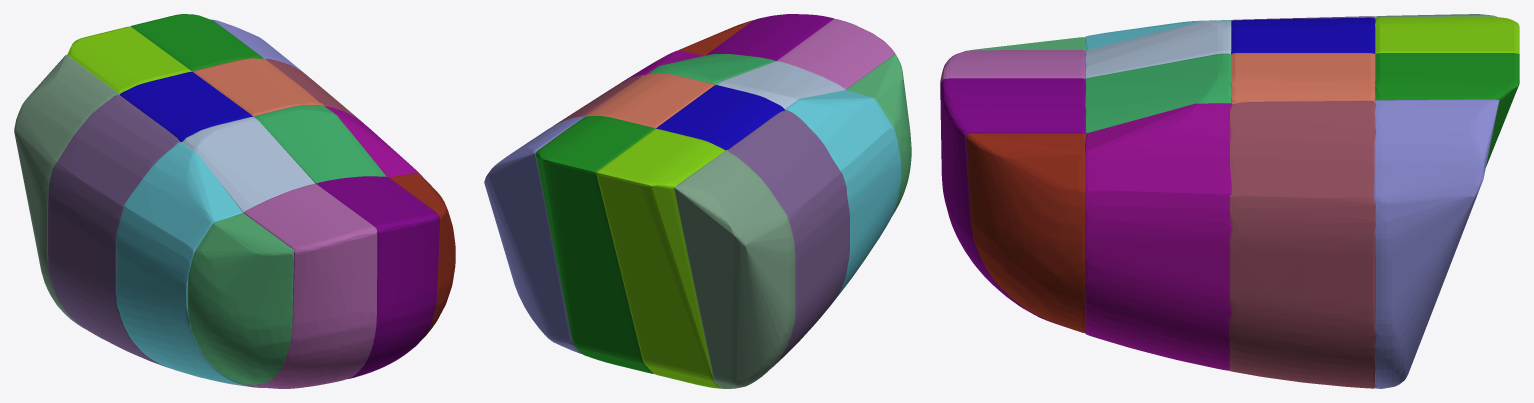
The model's file is th_distal_pst_split.obj.
3 renders of one model, left to right at view 1: azimuth 30°, elevation 25°; view 2: azimuth 150°, elevation 25°; view 3: azimuth 270°, elevation 25°, orthographic. The views are drawn at different scales.
Parts seen in each view (by area): view 1: geometry_1, geometry_7, geometry_2, geometry_3, geometry_11, geometry_0, geometry_6, geometry_10, geometry_5, geometry_4, geometry_8, geometry_9 (+4 smaller); view 2: geometry_0, geometry_4, geometry_8, geometry_1, geometry_2, geometry_12, geometry_5, geometry_7, geometry_9, geometry_11, geometry_3, geometry_6 (+4 smaller); view 3: geometry_13, geometry_14, geometry_12, geometry_15, geometry_11, geometry_10, geometry_8, geometry_9, geometry_4, geometry_5, geometry_6, geometry_7 (+2 smaller).
Part boxes in pixels (x1,y1,x2,y2): geometry_1: (48,95,179,367); geometry_7: (244,184,377,388); geometry_2: (116,142,244,384); geometry_3: (187,212,293,384); geometry_11: (315,176,439,379); geometry_0: (14,55,119,328); geometry_6: (182,117,315,387); geometry_10: (254,105,386,183); geometry_5: (120,72,252,141); geometry_4: (67,26,191,93); geometry_8: (130,14,263,71); geometry_9: (192,58,324,116); geometry_0: (674,150,795,388); geometry_4: (596,129,724,388); geometry_8: (535,116,655,373); geometry_1: (728,110,849,368); geometry_2: (785,90,900,300); geometry_12: (484,115,586,353); geometry_5: (656,85,784,150); geometry_7: (777,19,895,89); geometry_9: (587,73,715,128); geometry_11: (707,14,834,60); geometry_3: (845,54,911,215); geometry_6: (716,61,845,108); geometry_13: (1229,101,1376,388); geometry_14: (1085,103,1232,370); geometry_12: (1373,99,1499,388); geometry_15: (966,133,1086,332); geometry_11: (940,78,1085,332); geometry_10: (1085,53,1231,346); geometry_8: (1375,53,1519,166); geometry_9: (1231,53,1375,104); geometry_4: (1375,16,1519,53); geometry_5: (1231,17,1375,53); geometry_6: (1085,20,1231,78); geometry_7: (940,50,1085,83).
Size of the model in its own units: 21.47 by 18.15 by 31.78.
